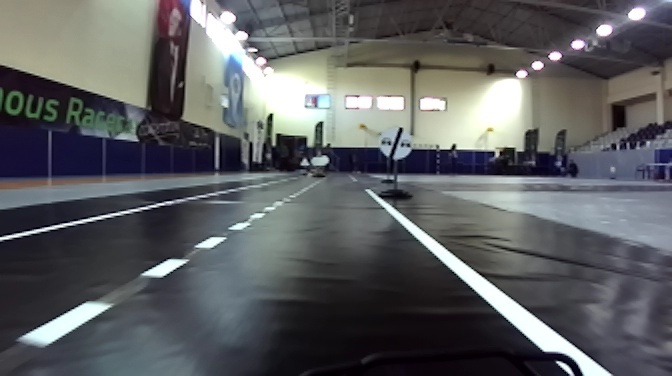sollama_serbest: (380, 126, 413, 159)
